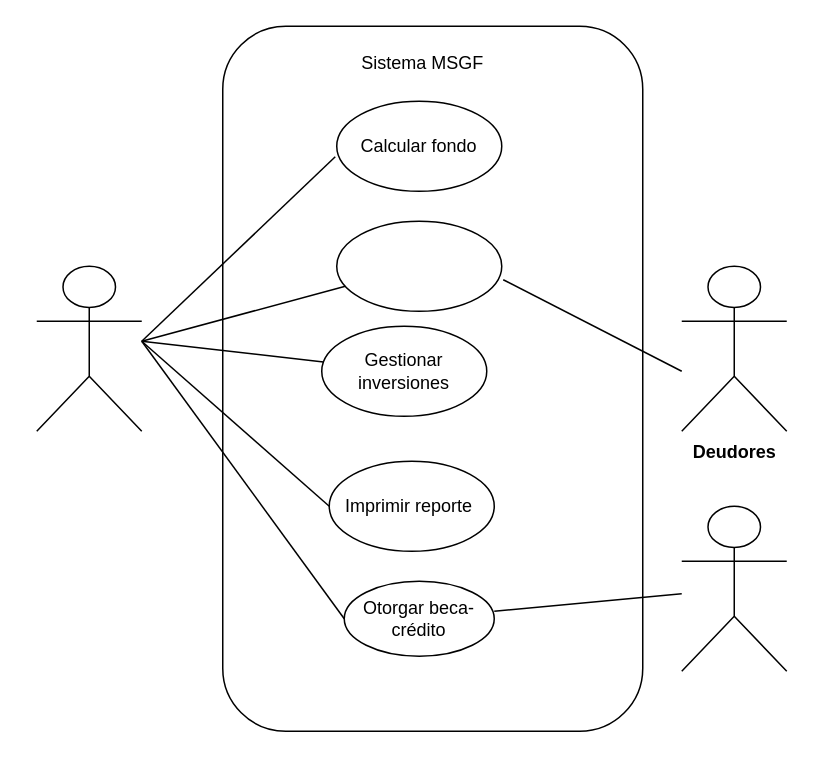
Some shapes in this 813 by 758 pixel diagram are drawn without their labels. The box of each missing label's shape, as (x1, y1, x2, y2) in pixels:
Empleado MSG: (35, 265, 142, 431)
Estudiante: (680, 505, 787, 671)
Gestionar hipoteca: (335, 220, 502, 311)
